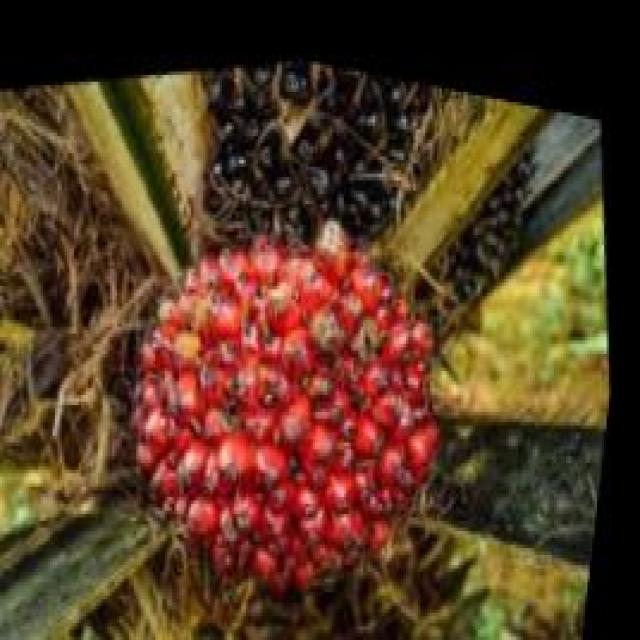Ripefruit: (97, 145, 488, 638)
